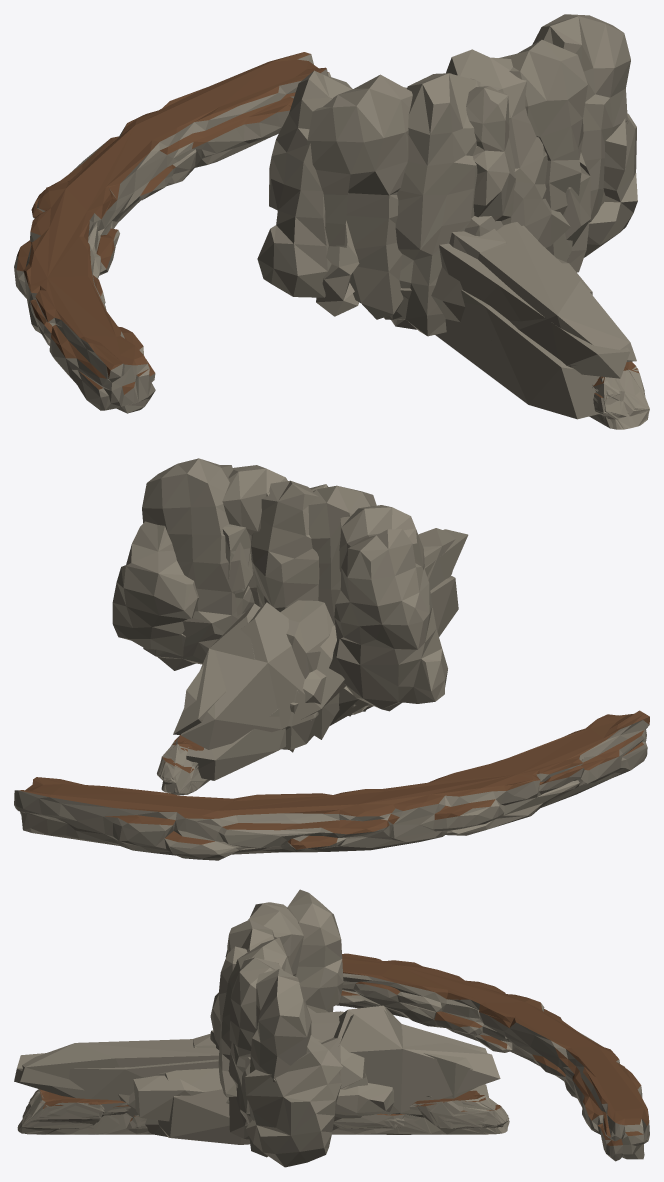
File: Rocks.fbx
The picture shows the model from 3 angles, top to bottom: view 1: azimuth 30°, elevation 25°; view 2: azimuth 150°, elevation 25°; view 3: azimuth 270°, elevation 25°; orthographic projection. The views are drawn at different scales.
Parts seen in each view (by area): view 1: Rock_012, Wall_01, Rock_048, Rock_047, Rock_019, Wall_02, Rock_039, Wall_03, Rock_041, Wall_04; view 2: Rock_012, Wall_01, Rock_019, Rock_047, Rock_048, Rock_041, Rock_039, Rock_046, Wall_02, Wall_03, Rock_06; view 3: Rock_012, Wall_01, Rock_047, Rock_019, Wall_02, Rock_046, Wall_03, Wall_04, Rock_044, Rock_043, Rock_039, Rock_041.
Part boxes in pixels (x1=…): Rock_012: x1=257, y1=14, x2=637, y2=336; Wall_01: x1=14, y1=52, x2=330, y2=413; Rock_048: x1=435, y1=290, x2=599, y2=419; Rock_047: x1=478, y1=222, x2=636, y2=366; Rock_019: x1=439, y1=225, x2=630, y2=378; Wall_02: x1=589, y1=361, x2=649, y2=429; Rock_039: x1=431, y1=267, x2=464, y2=321; Wall_03: x1=592, y1=361, x2=648, y2=429; Rock_041: x1=449, y1=229, x2=506, y2=259; Wall_04: x1=592, y1=368, x2=648, y2=429; Rock_012: x1=112, y1=458, x2=447, y2=711; Wall_01: x1=14, y1=710, x2=649, y2=860; Rock_019: x1=181, y1=529, x2=468, y2=749; Rock_047: x1=173, y1=528, x2=455, y2=734; Rock_048: x1=186, y1=575, x2=458, y2=780; Rock_041: x1=280, y1=600, x2=334, y2=678; Rock_039: x1=303, y1=669, x2=339, y2=739; Rock_046: x1=281, y1=690, x2=318, y2=749; Wall_02: x1=157, y1=735, x2=209, y2=794; Wall_03: x1=157, y1=737, x2=209, y2=795; Rock_06: x1=330, y1=686, x2=368, y2=725; Rock_012: x1=210, y1=889, x2=343, y2=1167; Wall_01: x1=225, y1=950, x2=649, y2=1161; Rock_047: x1=19, y1=1009, x2=500, y2=1114; Rock_019: x1=14, y1=1005, x2=486, y2=1100; Wall_02: x1=17, y1=1089, x2=509, y2=1134; Rock_046: x1=156, y1=1068, x2=361, y2=1144; Wall_03: x1=17, y1=1091, x2=508, y2=1134; Wall_04: x1=18, y1=1089, x2=509, y2=1134; Rock_044: x1=133, y1=1075, x2=204, y2=1121; Rock_043: x1=118, y1=1083, x2=394, y2=1116; Rock_039: x1=320, y1=1037, x2=365, y2=1088; Rock_041: x1=193, y1=1011, x2=344, y2=1047.
Bounding box in the file's own units: 1233 × 546 × 1541.
Materials: 2 (2 with a texture image).
